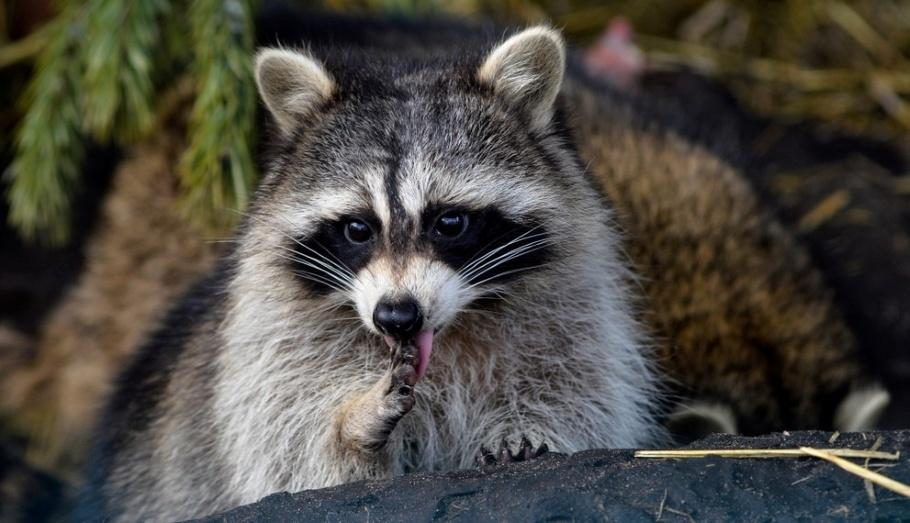raccoon: (103, 24, 644, 523)
